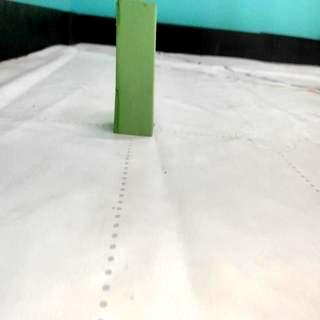greenbox: (113, 1, 157, 137)
